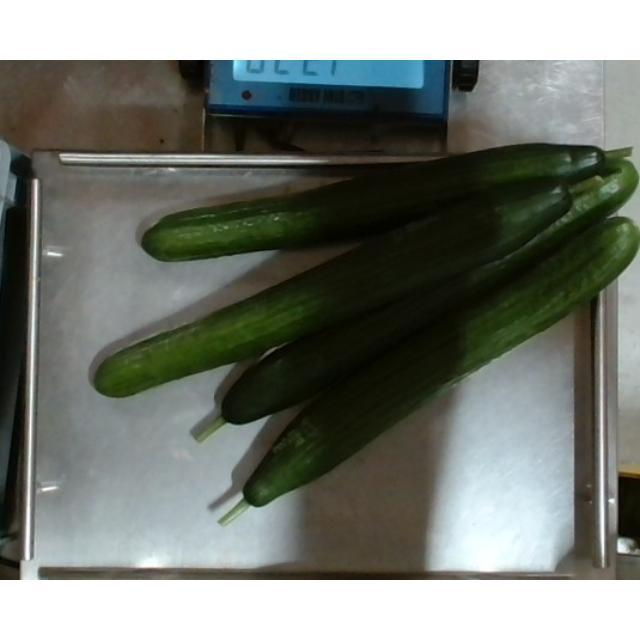cucumber: (216, 216, 640, 532), (193, 151, 639, 439), (115, 144, 640, 270), (89, 254, 419, 404)
